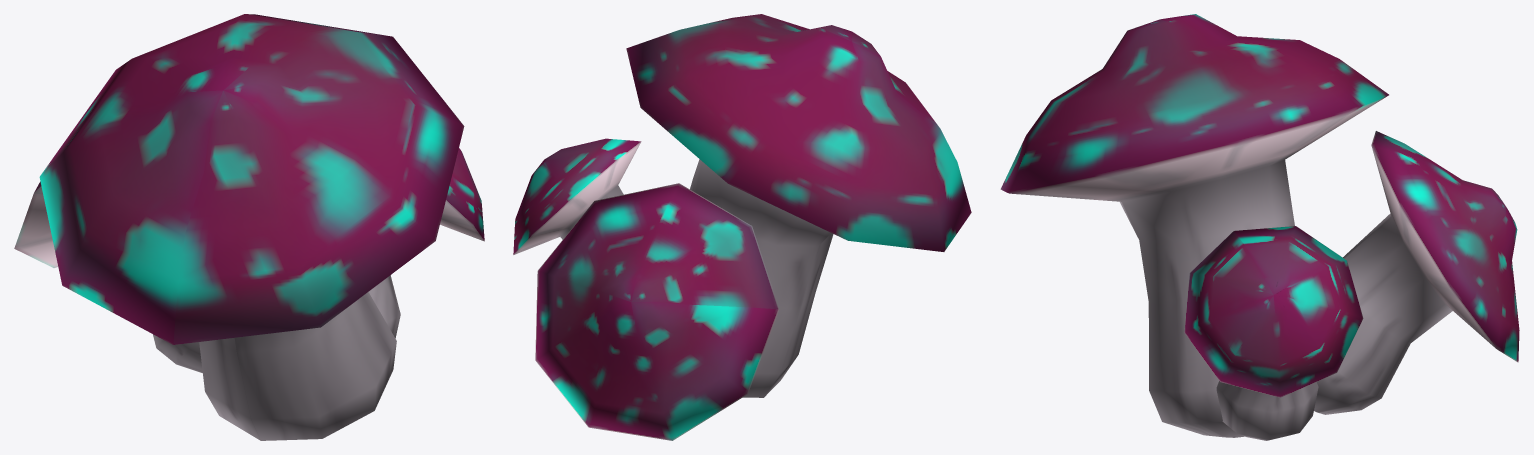
Rendered from Cogumelos.fbx.
3 renders of one model, left to right at view 1: azimuth 30°, elevation 25°; view 2: azimuth 150°, elevation 25°; view 3: azimuth 270°, elevation 25°, orthographic. The views are drawn at different scales.
Visible parts, largest first — view 1: Cogumelo, Cogumelo.001, Cogumelo.002; view 2: Cogumelo, Cogumelo.002, Cogumelo.001; view 3: Cogumelo, Cogumelo.002, Cogumelo.001.
Boxes of the visible parts, x1,y1,x2,y2 form: Cogumelo: (39, 14, 464, 440); Cogumelo.001: (368, 148, 484, 338); Cogumelo.002: (14, 181, 202, 372); Cogumelo: (626, 14, 971, 397); Cogumelo.002: (535, 183, 779, 440); Cogumelo.001: (513, 138, 641, 254); Cogumelo: (1000, 14, 1388, 437); Cogumelo.002: (1314, 131, 1519, 414); Cogumelo.001: (1184, 226, 1363, 440).
Bounding box in the file's own units: 103 × 89.56 × 113.
